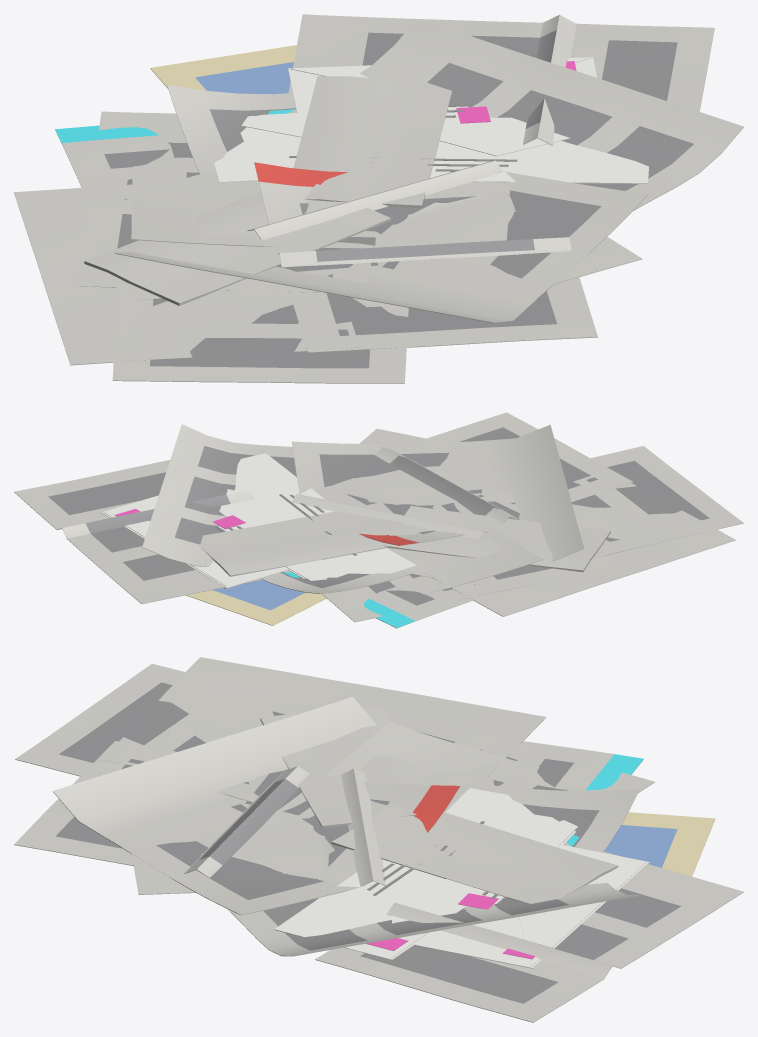
The model's file is paper_papers_scattered_b.fbx.
3 views of the same model, one above another, from view 1: azimuth 30°, elevation 25°; view 2: azimuth 150°, elevation 25°; view 3: azimuth 270°, elevation 25° (orthographic). The views are drawn at different scales.
Visible parts, largest first — view 1: paper_papers_scattered_b; view 2: paper_papers_scattered_b; view 3: paper_papers_scattered_b.
Part boxes in pixels (x1=…): paper_papers_scattered_b: x1=14, y1=14, x2=743, y2=383; paper_papers_scattered_b: x1=14, y1=412, x2=743, y2=628; paper_papers_scattered_b: x1=14, y1=657, x2=743, y2=1022.
Bounding box in the file's own units: 0.6872 × 0.0204 × 0.5802.
